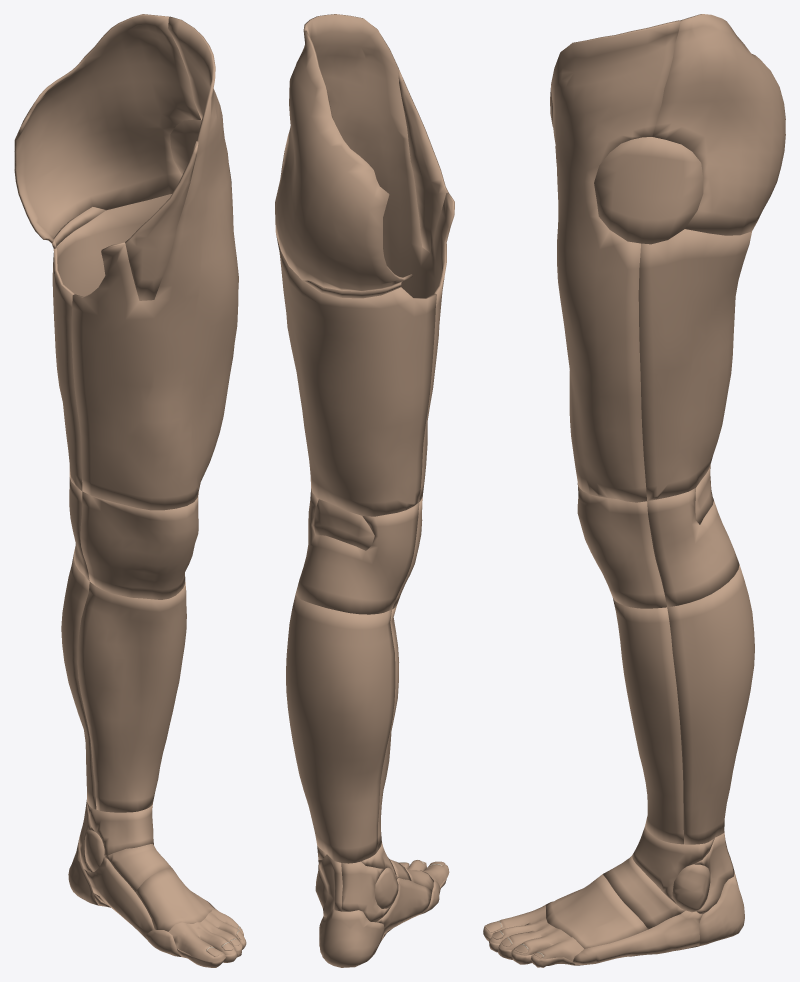
Rendered from detail-integumentary-left-lower-limb.glb.
3 views of the same model, side by side, from view 1: azimuth 30°, elevation 25°; view 2: azimuth 150°, elevation 25°; view 3: azimuth 270°, elevation 25° (orthographic). The views are drawn at different scales.
Visible parts, largest first — view 1: za-27fc864c1cbc3bec, za-c0df34ba30a814a6, za-ee1a12fbaaa505b5, za-9bc938e75009139b, za-ae69407804d1c31a, za-dba06c35d37a94dc, za-b6c91c8f6f2c57e7, za-a8595f0e36d1ffbf, za-6da838fdf3bbc73d, za-9d9dbfb811b834b4, za-3edc788b6143fad5, za-661411b31eb30930 (+6 smaller); view 2: za-ae69407804d1c31a, za-b6c91c8f6f2c57e7, za-c0df34ba30a814a6, za-27fc864c1cbc3bec, za-a9c47ec924c2f831, za-dba06c35d37a94dc, za-3686ec834243dc9b, za-dfb8fece4c232e37, za-98834a287c3a30a8, za-3edc788b6143fad5, za-253faa6a33a5c10b, za-ee1a12fbaaa505b5 (+5 smaller); view 3: za-27fc864c1cbc3bec, za-ae69407804d1c31a, za-c0df34ba30a814a6, za-b6c91c8f6f2c57e7, za-ee1a12fbaaa505b5, za-3047b99435515787, za-a9c47ec924c2f831, za-9bc938e75009139b, za-a8595f0e36d1ffbf, za-fcaf6b933a689b7b, za-6da838fdf3bbc73d, za-661411b31eb30930 (+6 smaller).
Boxes of the visible parts, x1=… form: za-27fc864c1cbc3bec: x1=71, y1=16, x2=238, y2=510; za-c0df34ba30a814a6: x1=14, y1=14, x2=200, y2=243; za-ee1a12fbaaa505b5: x1=77, y1=582, x2=186, y2=812; za-9bc938e75009139b: x1=80, y1=491, x2=198, y2=599; za-ae69407804d1c31a: x1=52, y1=194, x2=171, y2=490; za-dba06c35d37a94dc: x1=125, y1=141, x2=198, y2=300; za-b6c91c8f6f2c57e7: x1=61, y1=554, x2=96, y2=809; za-a8595f0e36d1ffbf: x1=135, y1=868, x2=215, y2=931; za-6da838fdf3bbc73d: x1=168, y1=909, x2=244, y2=961; za-9d9dbfb811b834b4: x1=87, y1=802, x2=153, y2=856; za-3edc788b6143fad5: x1=84, y1=857, x2=154, y2=938; za-661411b31eb30930: x1=104, y1=844, x2=172, y2=891; za-ae69407804d1c31a: x1=276, y1=234, x2=436, y2=516; za-b6c91c8f6f2c57e7: x1=286, y1=595, x2=395, y2=863; za-c0df34ba30a814a6: x1=275, y1=30, x2=412, y2=291; za-27fc864c1cbc3bec: x1=303, y1=14, x2=454, y2=501; za-a9c47ec924c2f831: x1=295, y1=488, x2=419, y2=614; za-dba06c35d37a94dc: x1=398, y1=69, x2=448, y2=252; za-3686ec834243dc9b: x1=319, y1=908, x2=384, y2=967; za-dfb8fece4c232e37: x1=341, y1=861, x2=390, y2=922; za-98834a287c3a30a8: x1=312, y1=499, x2=374, y2=550; za-3edc788b6143fad5: x1=376, y1=878, x2=432, y2=933; za-253faa6a33a5c10b: x1=318, y1=854, x2=342, y2=917; za-ee1a12fbaaa505b5: x1=378, y1=606, x2=399, y2=849; za-27fc864c1cbc3bec: x1=551, y1=20, x2=680, y2=502; za-ae69407804d1c31a: x1=638, y1=229, x2=751, y2=501; za-c0df34ba30a814a6: x1=652, y1=14, x2=785, y2=235; za-b6c91c8f6f2c57e7: x1=667, y1=564, x2=754, y2=844; za-ee1a12fbaaa505b5: x1=613, y1=598, x2=683, y2=844; za-3047b99435515787: x1=594, y1=137, x2=703, y2=244; za-a9c47ec924c2f831: x1=647, y1=488, x2=739, y2=607; za-9bc938e75009139b: x1=577, y1=483, x2=666, y2=608; za-a8595f0e36d1ffbf: x1=546, y1=874, x2=647, y2=948; za-fcaf6b933a689b7b: x1=573, y1=910, x2=702, y2=964; za-6da838fdf3bbc73d: x1=483, y1=904, x2=583, y2=961; za-661411b31eb30930: x1=603, y1=856, x2=685, y2=929.
Bounding box in the file's own units: 0.1818 × 1.02 × 0.294.
